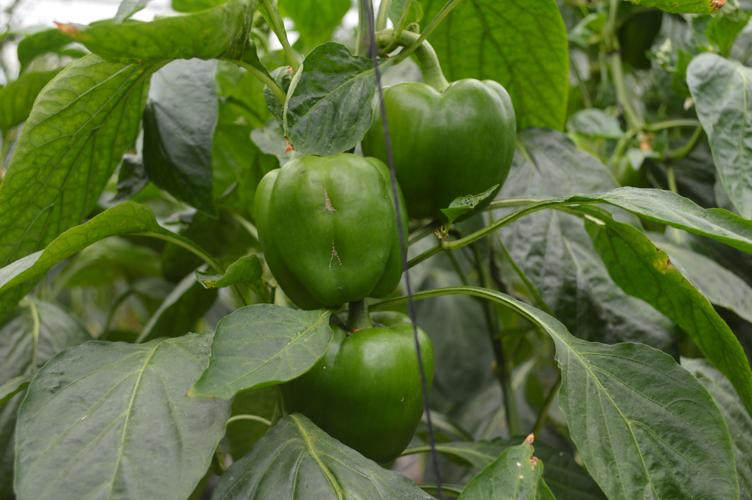BellPepper: (254, 315, 446, 466), (356, 54, 520, 230), (243, 158, 407, 308)
